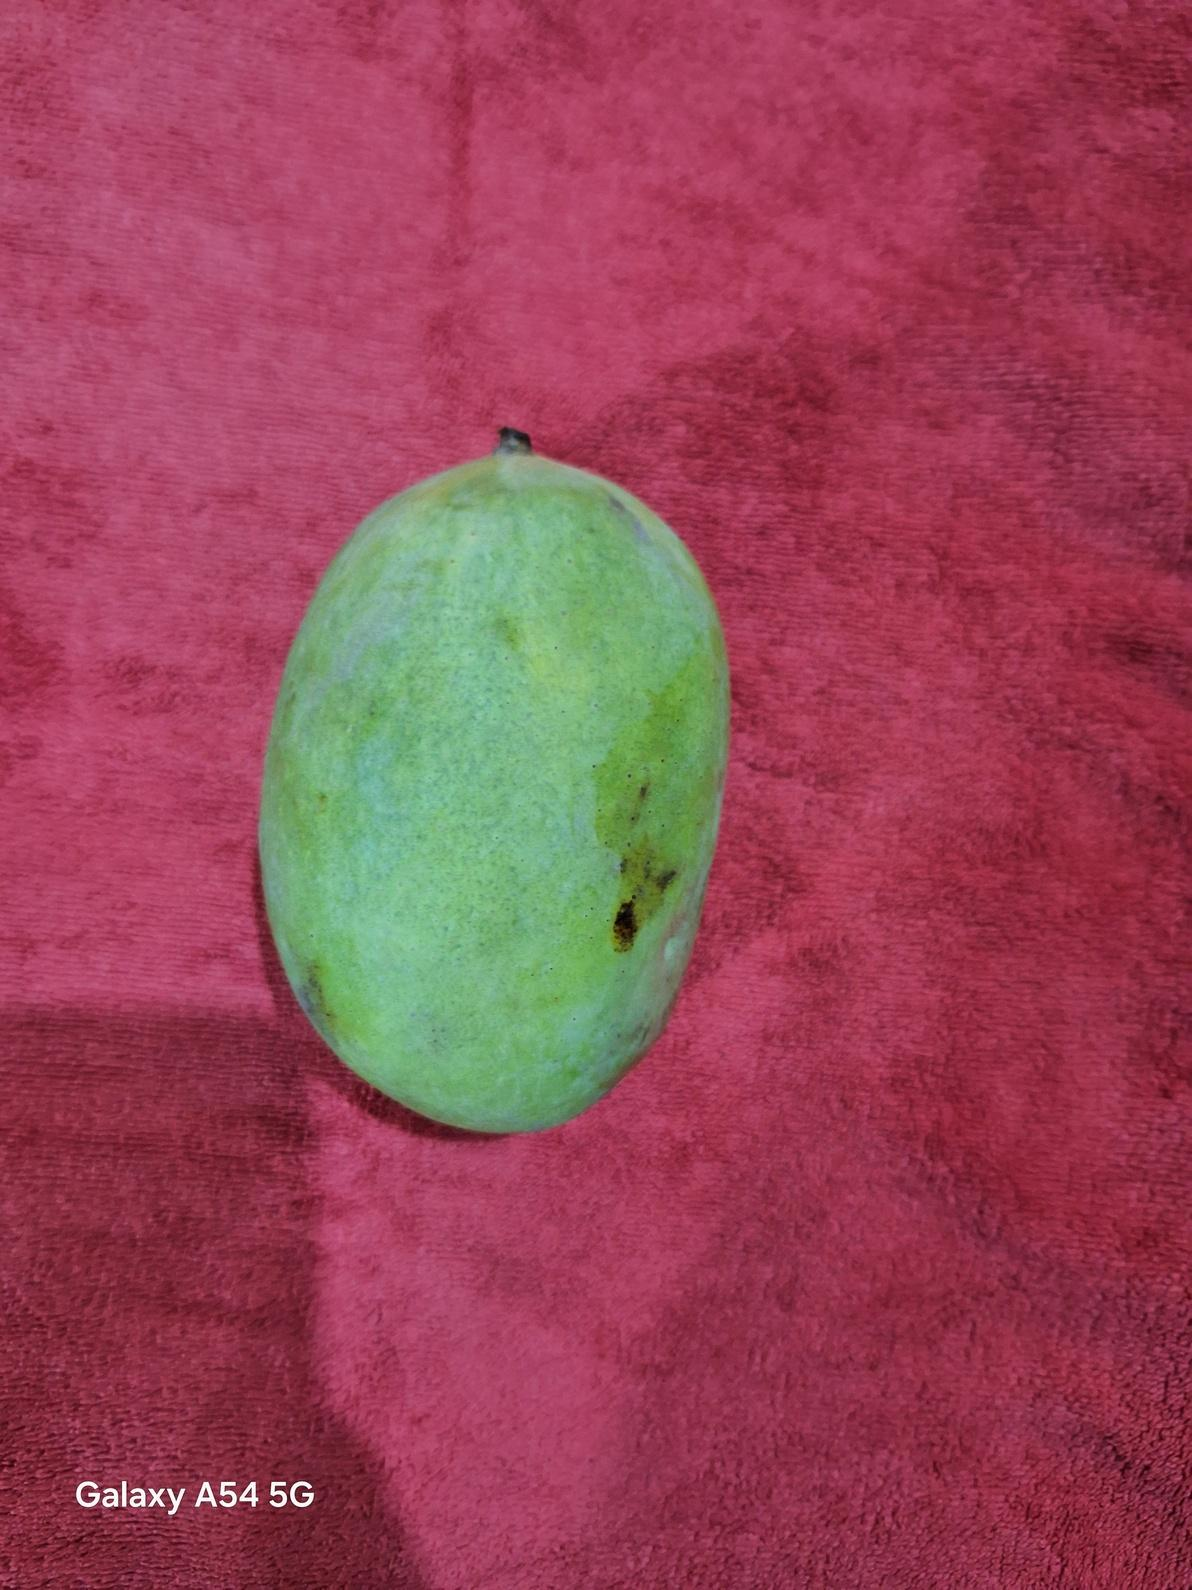mango: (255, 424, 732, 1136)
